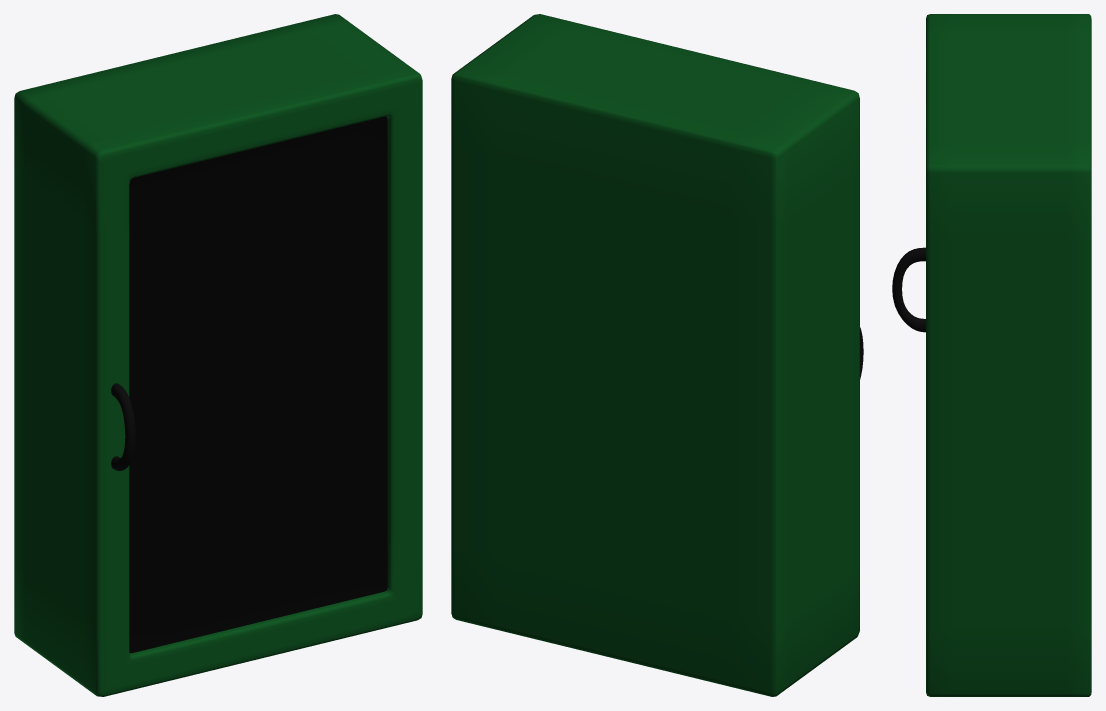
File: DisplayFridge.fbx
3 renders of one model, left to right at view 1: azimuth 30°, elevation 25°; view 2: azimuth 150°, elevation 25°; view 3: azimuth 270°, elevation 25°, orthographic. The views are drawn at different scales.
Visible parts, largest first — view 1: Fridge_Display; view 2: Fridge_Display; view 3: Fridge_Display.
Boxes of the visible parts, left/top/right/bottom form: Fridge_Display: left=14, top=14, right=422, bottom=696; Fridge_Display: left=451, top=14, right=863, bottom=696; Fridge_Display: left=892, top=14, right=1091, bottom=696.
Size of the model in its own units: 50 by 80 by 27.2.
